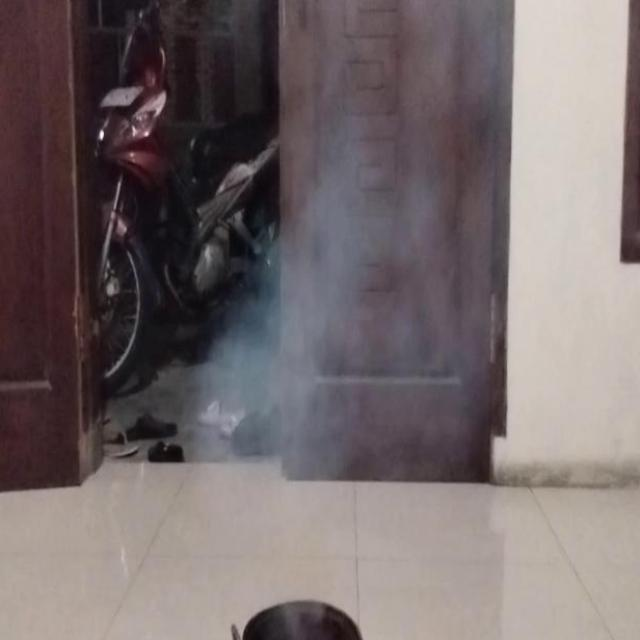fire: (185, 170, 492, 558)
